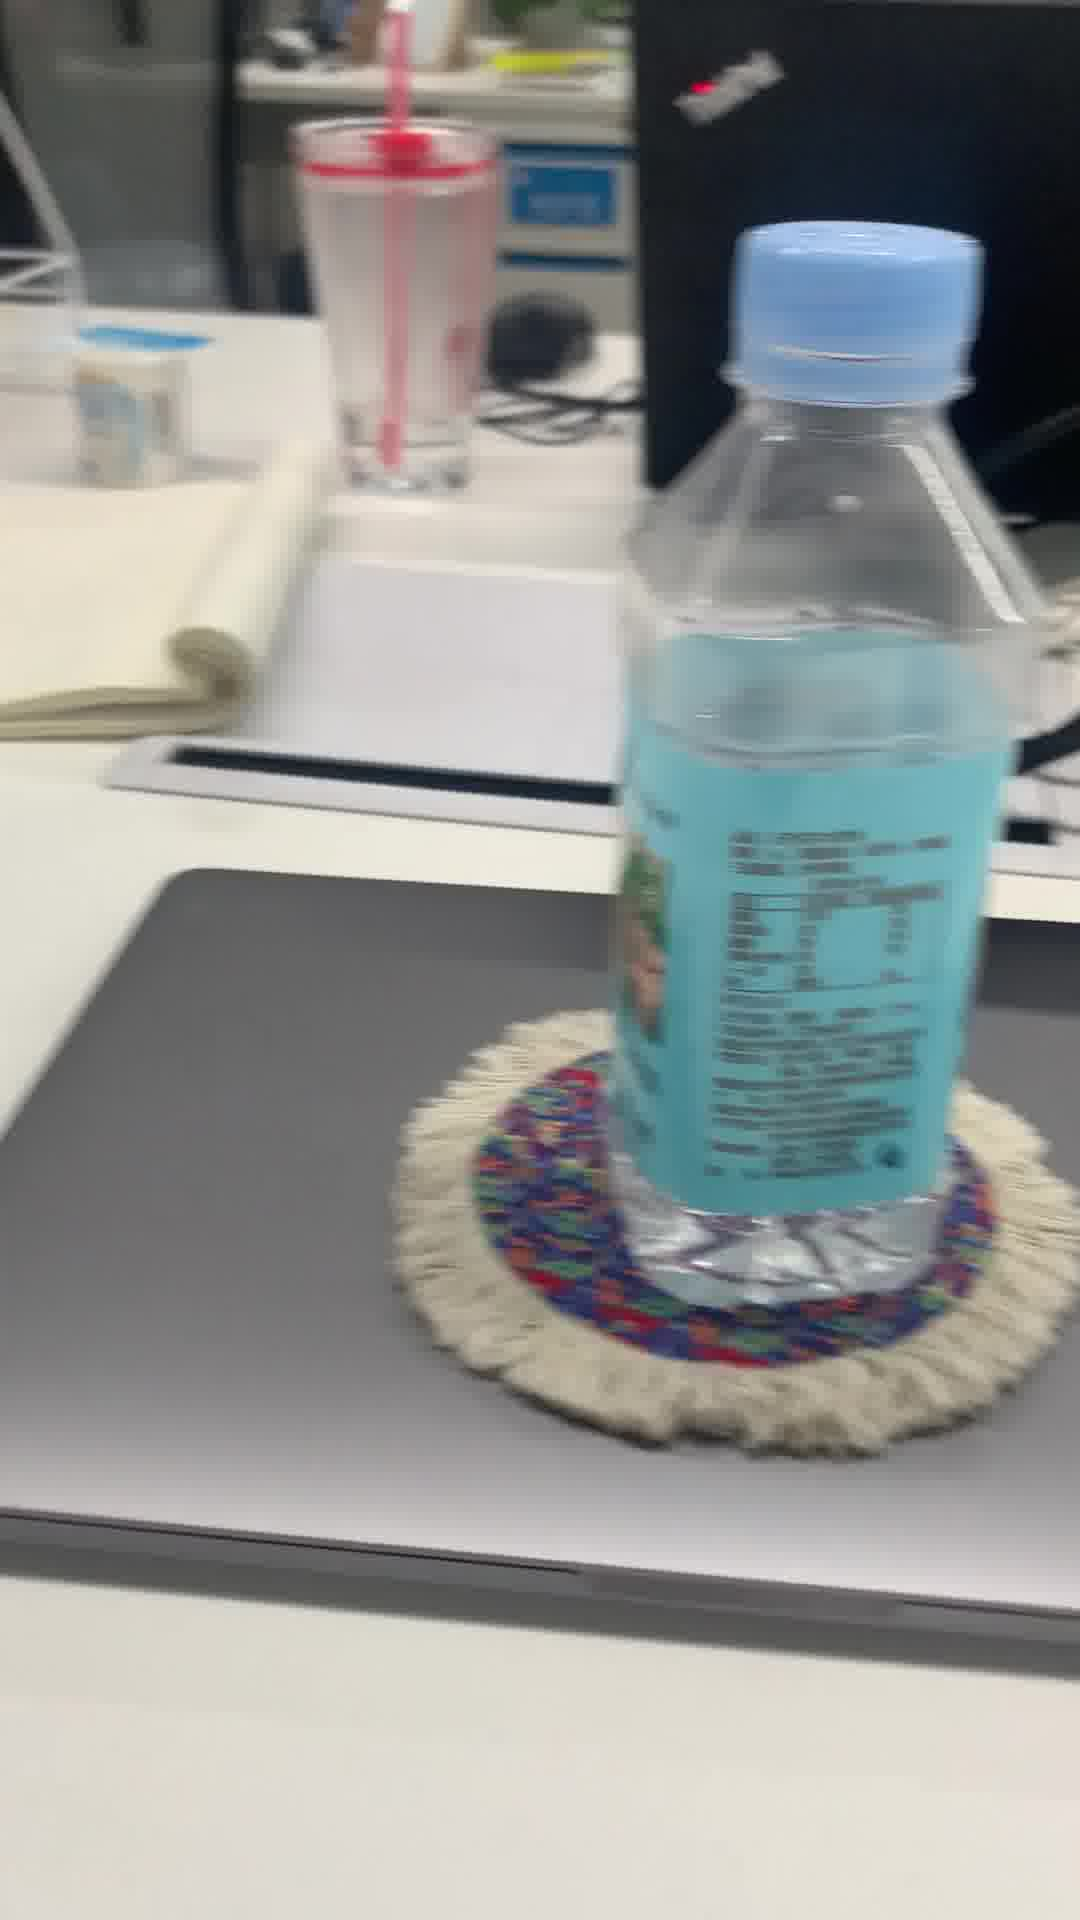水瓶: (616, 222, 1044, 1325)
